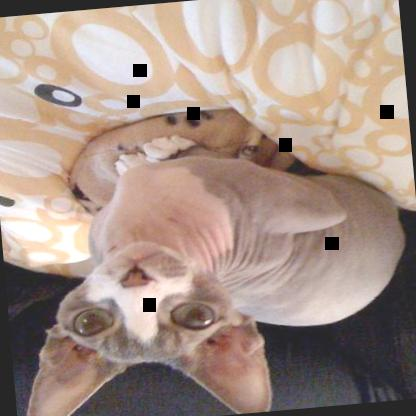cat: (3, 116, 415, 415)
